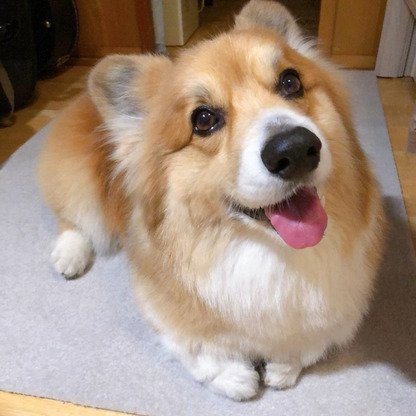Corgi: (52, 15, 393, 390)
